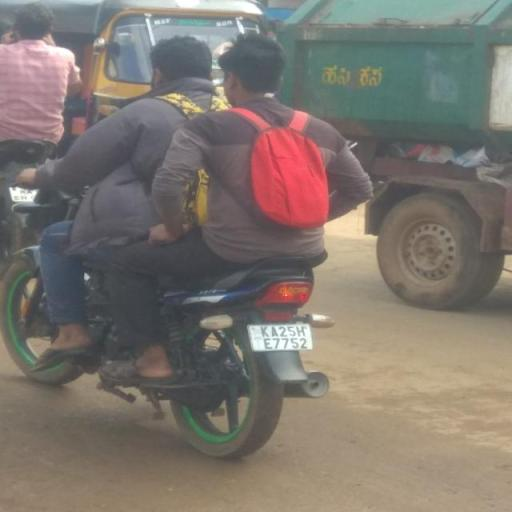bike: (11, 26, 373, 466)
numberplate: (252, 322, 314, 348)
withouthelmet: (224, 36, 284, 102), (154, 39, 212, 86)
